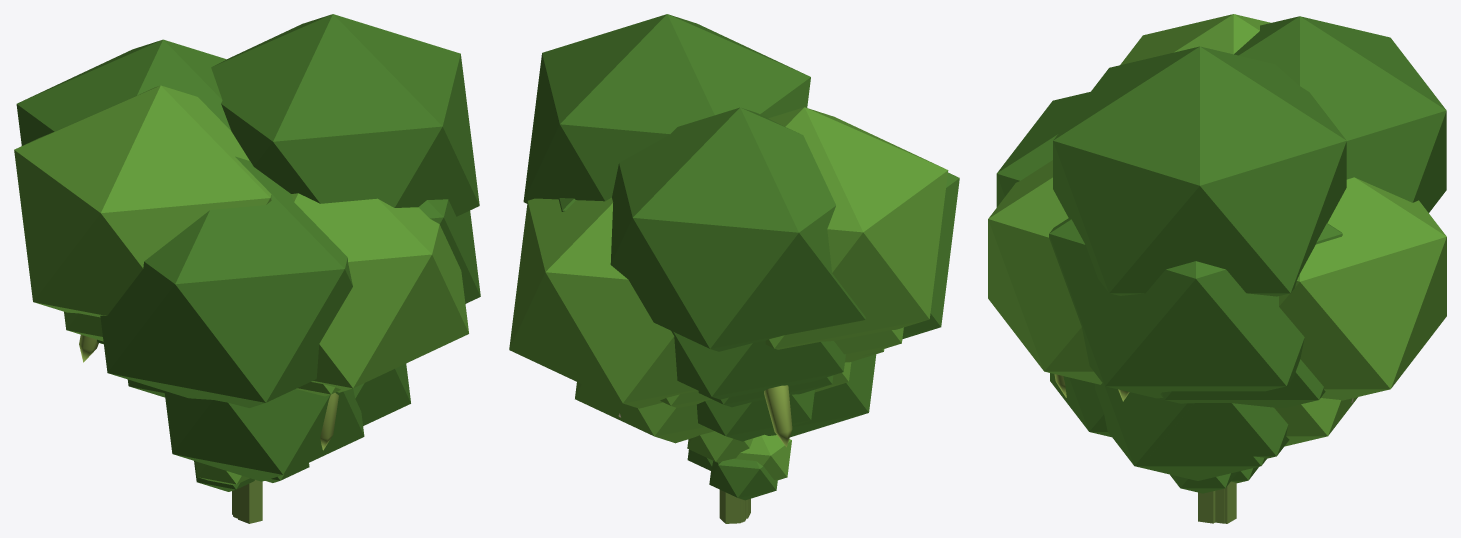
The model's file is Crop_Veg_Soybean.fbx.
3 renders of one model, left to right at view 1: azimuth 30°, elevation 25°; view 2: azimuth 150°, elevation 25°; view 3: azimuth 270°, elevation 25°, orthographic. The views are drawn at different scales.
Visible parts, largest first — view 1: Crop_Veg_Soybean__S4, Crop_Veg_Soybean__S5, Crop_Veg_Soybean__S1, Crop_Veg_Soybean__S3; view 2: Crop_Veg_Soybean__S4, Crop_Veg_Soybean__S3, Crop_Veg_Soybean__S5, Crop_Veg_Soybean__S1, Crop_Veg_Soybean__S2; view 3: Crop_Veg_Soybean__S4, Crop_Veg_Soybean__S5, Crop_Veg_Soybean__S3, Crop_Veg_Soybean__S1.
Boxes of the visible parts, <box> form: Crop_Veg_Soybean__S4: <box>14,14,480,450</box>; Crop_Veg_Soybean__S5: <box>97,339,410,518</box>; Crop_Veg_Soybean__S1: <box>194,461,309,523</box>; Crop_Veg_Soybean__S3: <box>64,311,340,514</box>; Crop_Veg_Soybean__S4: <box>509,14,959,522</box>; Crop_Veg_Soybean__S3: <box>618,327,903,523</box>; Crop_Veg_Soybean__S5: <box>575,349,884,521</box>; Crop_Veg_Soybean__S1: <box>687,431,791,518</box>; Crop_Veg_Soybean__S2: <box>697,362,851,522</box>; Crop_Veg_Soybean__S4: <box>988,14,1446,523</box>; Crop_Veg_Soybean__S5: <box>1050,373,1357,480</box>; Crop_Veg_Soybean__S3: <box>1160,359,1353,523</box>; Crop_Veg_Soybean__S1: <box>1170,467,1258,523</box>.
Size of the model in its own units: 0.1816 by 0.2059 by 0.1674.
